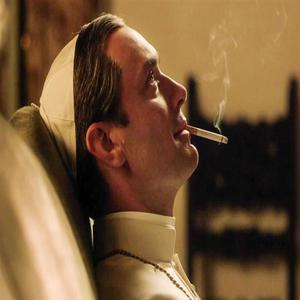cigarette: (186, 124, 231, 145)
